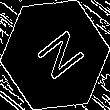N_SW: (25, 24, 85, 86)
